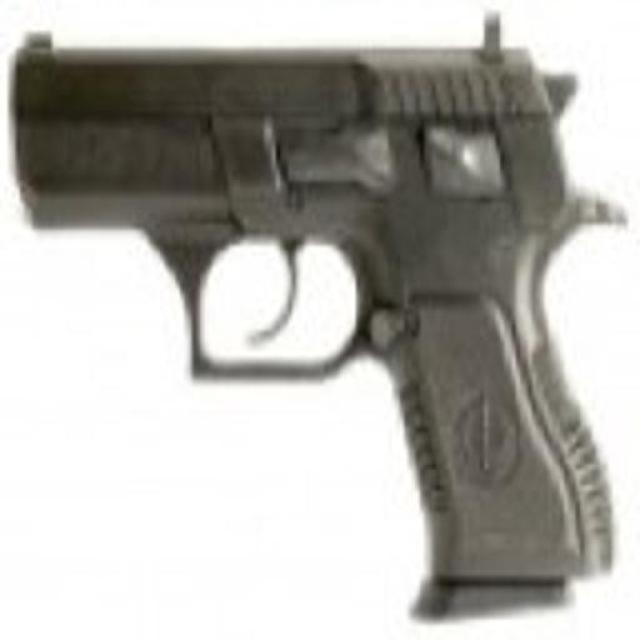pistol: (11, 21, 627, 617)
